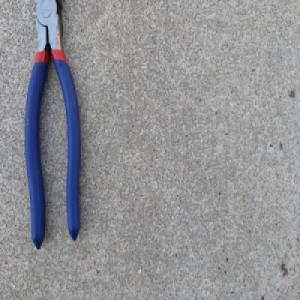Pliers: (22, 0, 82, 250)
